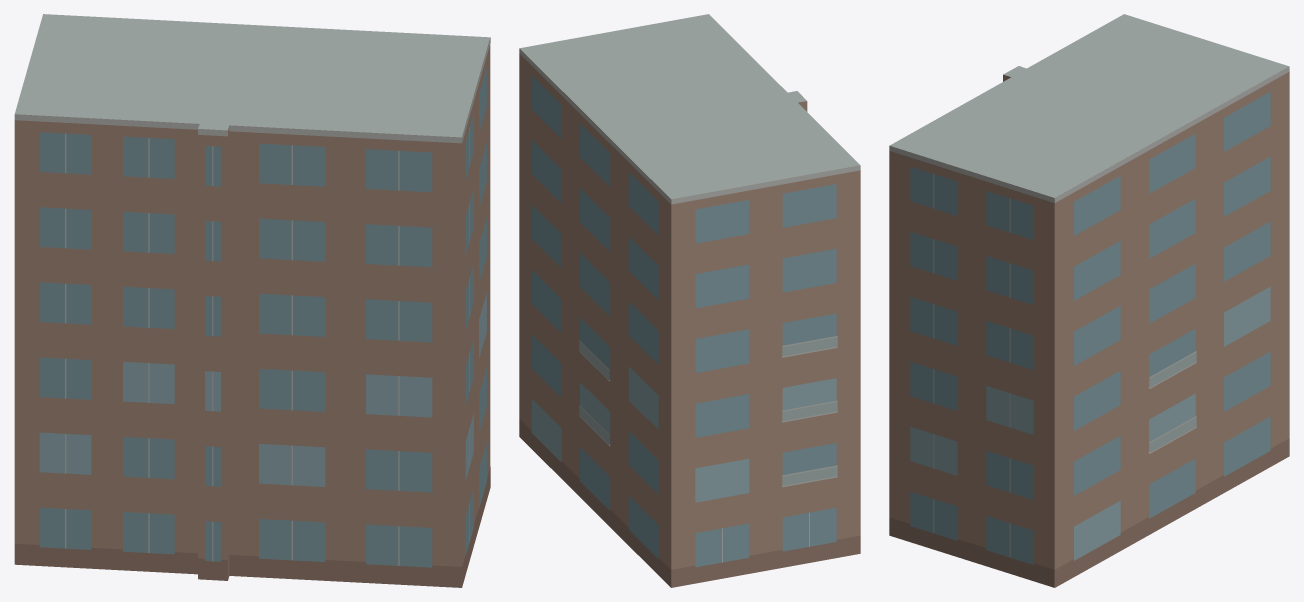
Rendered from survey-upis-32994893.glb.
3 views of the same model, side by side, from view 1: azimuth 30°, elevation 25°; view 2: azimuth 150°, elevation 25°; view 3: azimuth 270°, elevation 25° (orthographic). The views are drawn at different scales.
Parts seen in each view (by area): view 1: survey-upis-32994893.tmp; view 2: survey-upis-32994893.tmp; view 3: survey-upis-32994893.tmp.
Boxes of the visible parts, <box> form: survey-upis-32994893.tmp: <box>14,14,490,587</box>; survey-upis-32994893.tmp: <box>519,14,860,587</box>; survey-upis-32994893.tmp: <box>889,14,1289,587</box>.
Size of the model in its own units: 18.73 by 18.5 by 17.22.
